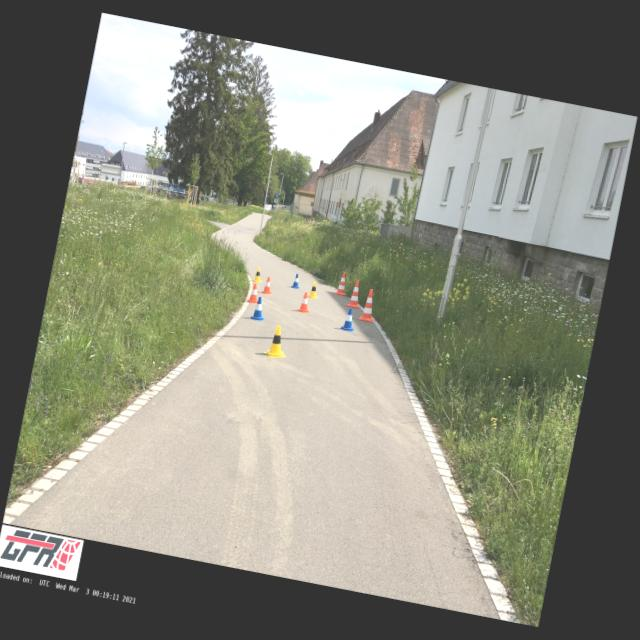blue_cone: (339, 307, 358, 332), (250, 296, 268, 322), (291, 274, 302, 290)
large_orange_cone: (359, 288, 379, 322), (346, 279, 364, 309), (335, 271, 350, 296)
orange_cone: (297, 292, 312, 314), (247, 282, 261, 304), (262, 276, 274, 294)
yellow_cone: (263, 324, 291, 360), (308, 282, 321, 298), (252, 268, 264, 282)
